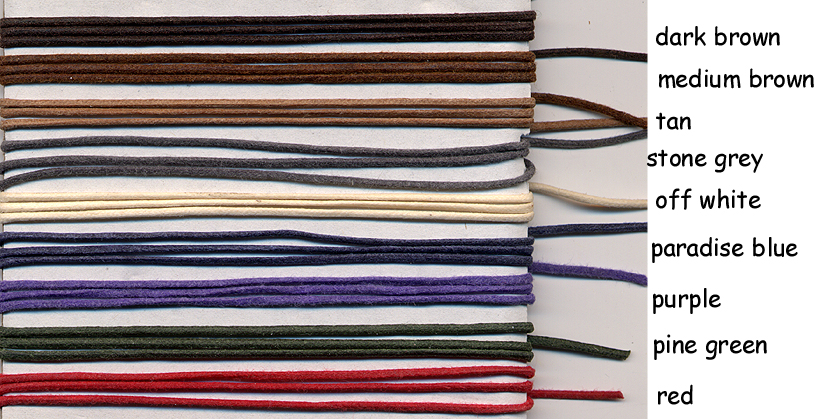Nonrec_Tangler: (2, 6, 636, 412)
